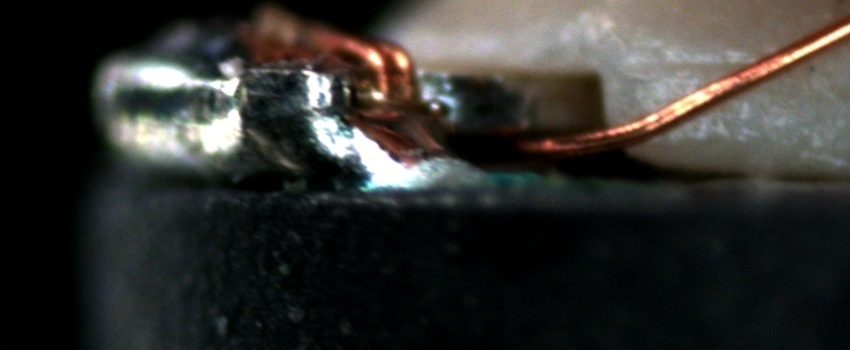DL: (633, 31, 772, 95)
TE: (311, 19, 419, 129)
